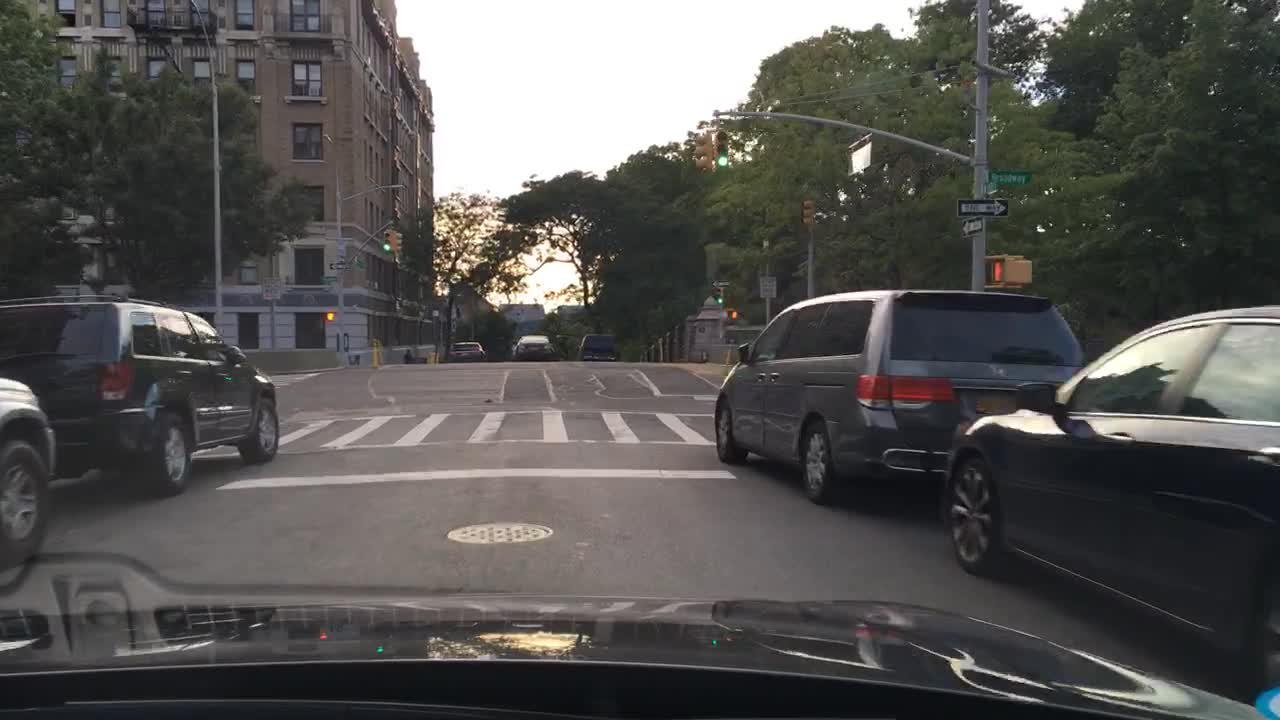car: (941, 301, 1278, 662), (712, 286, 1084, 506), (0, 293, 280, 496), (0, 375, 57, 570), (576, 332, 621, 361), (513, 333, 558, 361), (446, 339, 486, 362)
person: (401, 347, 414, 363)
traffic light: (989, 257, 1031, 288), (692, 133, 712, 171), (714, 131, 728, 167), (800, 198, 815, 225), (391, 228, 405, 252), (382, 227, 391, 251), (726, 308, 738, 322), (324, 310, 335, 322), (714, 294, 723, 304)
traffic sign: (845, 131, 872, 176), (955, 195, 1010, 215), (985, 169, 1029, 182), (261, 274, 282, 301), (959, 215, 985, 235), (758, 273, 776, 297), (327, 261, 352, 270), (712, 278, 731, 287), (319, 274, 338, 282), (355, 259, 368, 268)
